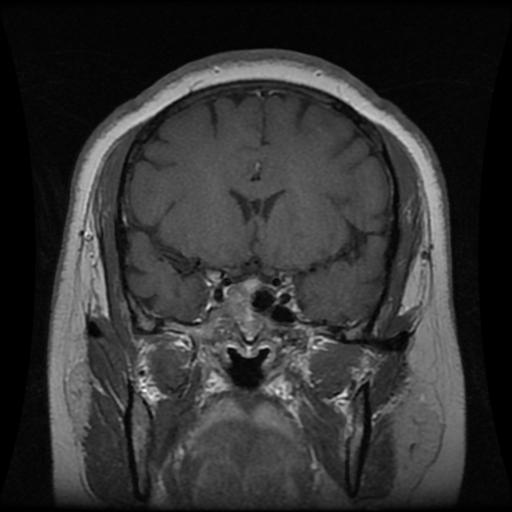Pituirity_tumour: (222, 278, 261, 338)
